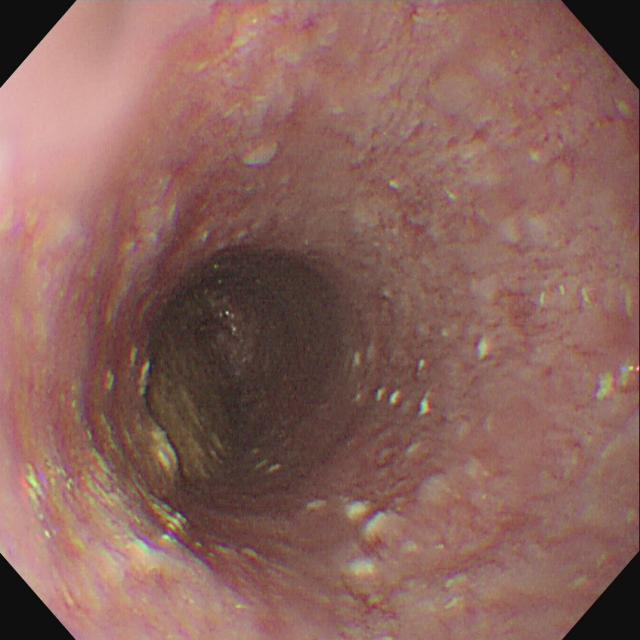B: (144, 333, 226, 492)
E: (171, 234, 358, 450)
J: (343, 434, 493, 609), (349, 351, 432, 419)
